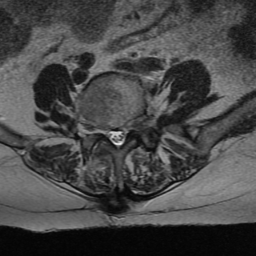CCS_stenosis: (113, 119, 121, 155)
LFS_normal: (129, 111, 138, 138)
LLS_stenosis: (120, 119, 129, 149)
RFS_stenosis: (96, 116, 105, 145)
RLS_stenosis: (105, 121, 114, 149)
